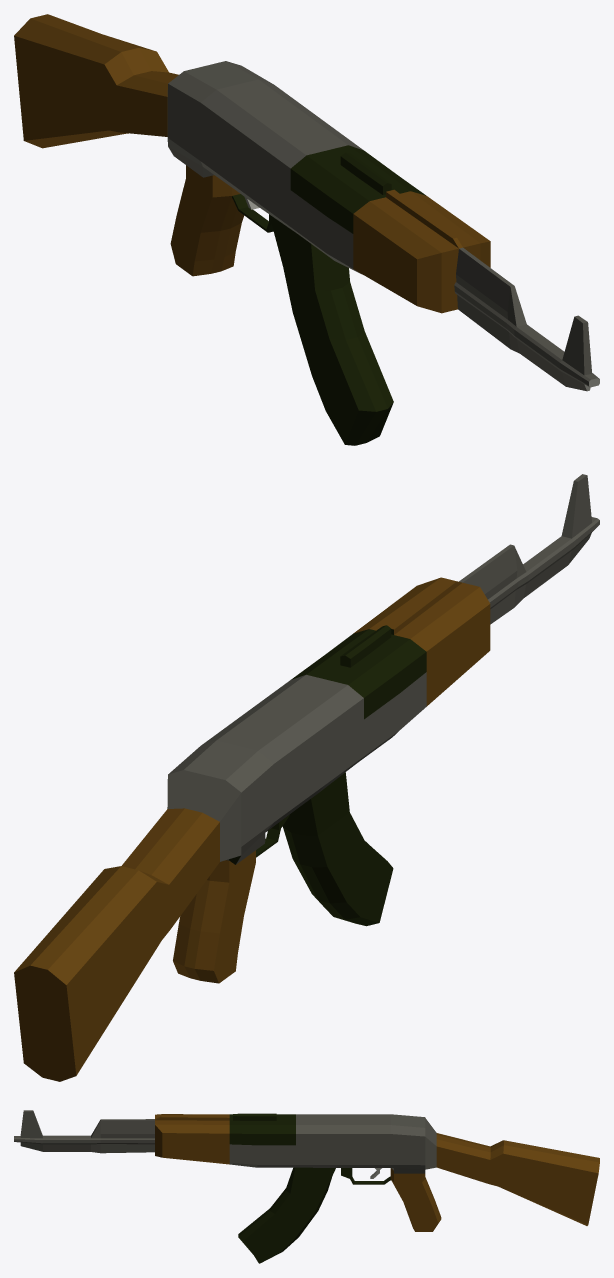
Rendered from Rifle.fbx.
The picture shows the model from 3 angles, top to bottom: view 1: azimuth 30°, elevation 25°; view 2: azimuth 150°, elevation 25°; view 3: azimuth 270°, elevation 25°; orthographic projection. The views are drawn at different scales.
Parts seen in each view (by area): view 1: Rifle; view 2: Rifle; view 3: Rifle.
Part boxes in pixels (x1,y1,x2,y2): Rifle: [14, 14, 599, 445]; Rifle: [14, 474, 599, 1081]; Rifle: [14, 1110, 599, 1263].
Bounding box in the file's own units: 140 × 1830 × 520.
